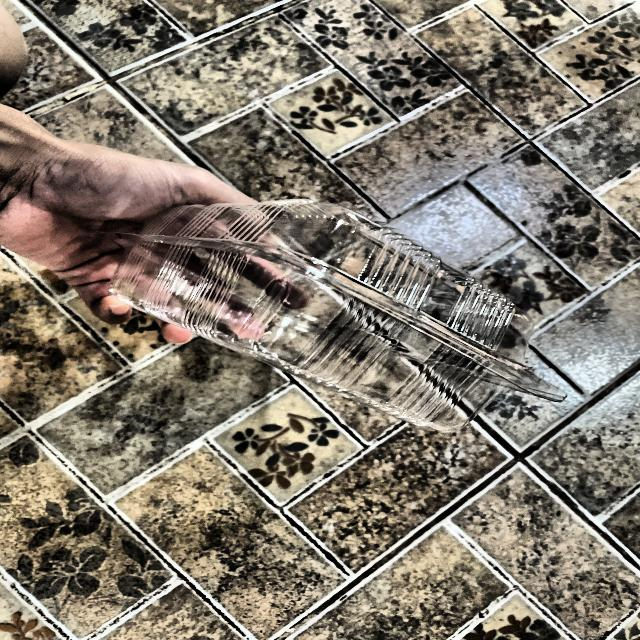plastic container: (100, 173, 574, 460)
